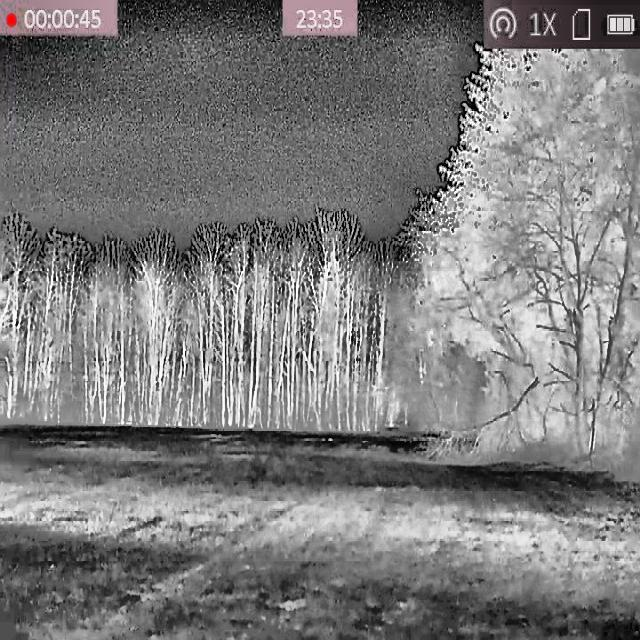drone: (156, 278, 159, 285)
